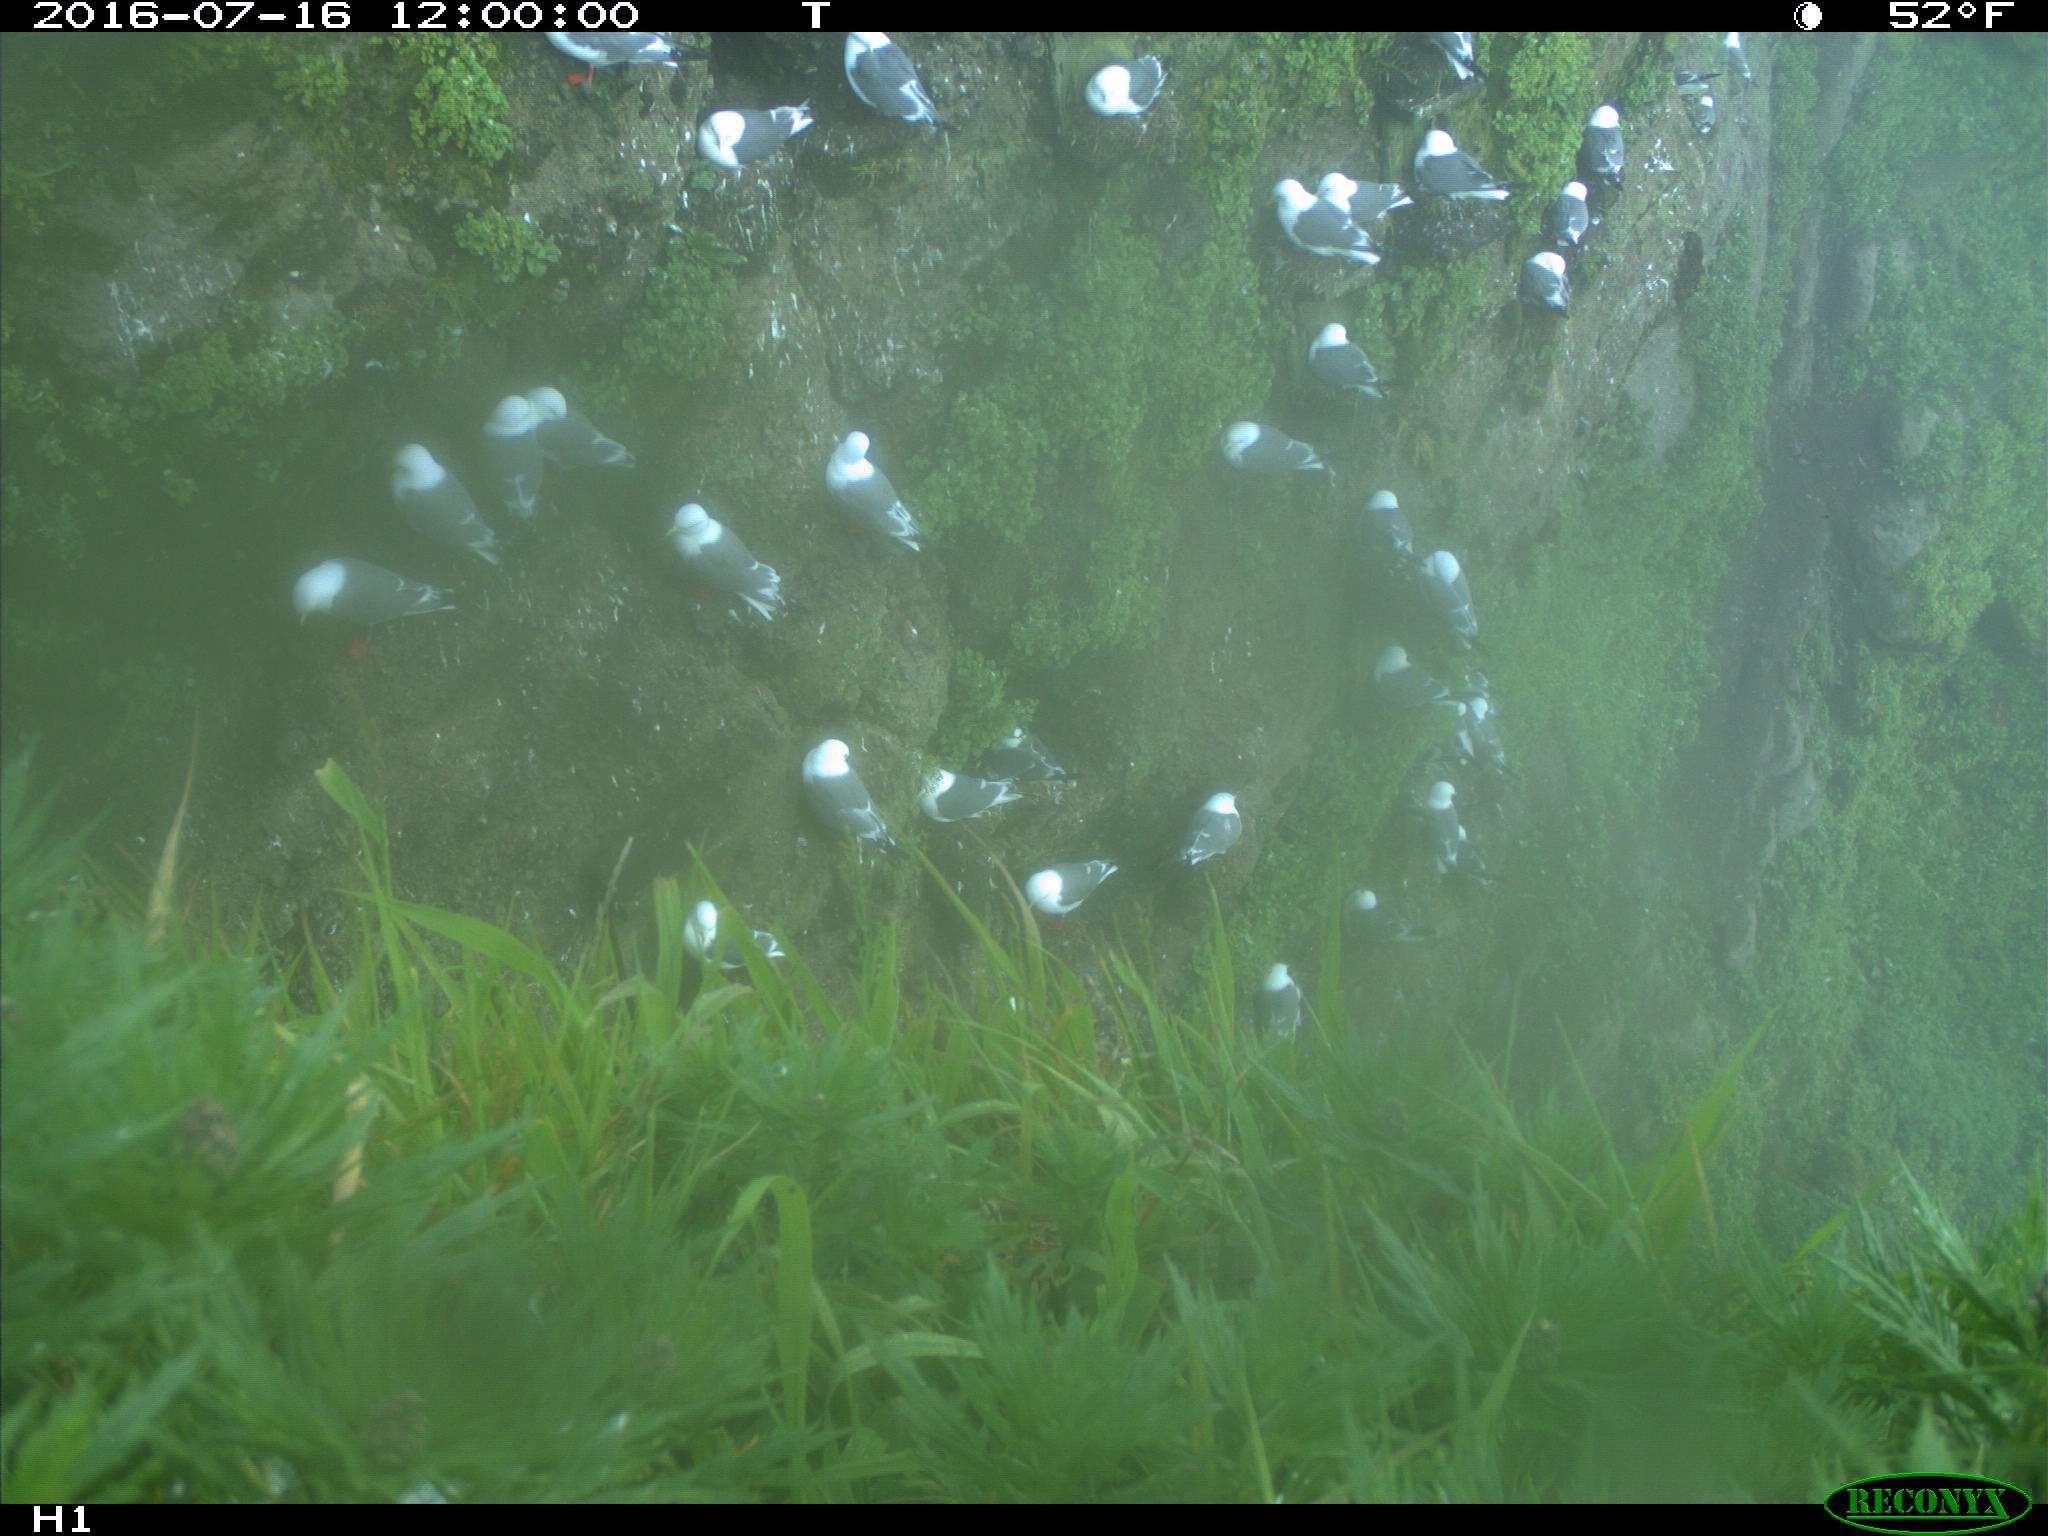Kittiwake: (506, 347, 676, 494), (660, 487, 829, 628), (347, 428, 503, 574), (273, 547, 464, 662), (818, 419, 959, 561), (797, 31, 985, 134), (1256, 163, 1384, 298), (792, 729, 913, 866), (647, 887, 814, 984), (471, 390, 563, 557), (1397, 110, 1527, 224), (689, 82, 826, 190), (514, 23, 711, 97), (1397, 757, 1495, 904), (1163, 763, 1263, 899), (1185, 411, 1342, 497), (998, 834, 1127, 937), (1303, 303, 1403, 423), (1061, 39, 1188, 131), (1238, 944, 1329, 1071), (906, 737, 1030, 829), (1438, 650, 1517, 789), (980, 720, 1101, 800), (1300, 152, 1443, 219), (1563, 74, 1646, 189), (1340, 874, 1451, 960), (1417, 544, 1501, 653), (1350, 628, 1447, 721), (1355, 471, 1435, 579), (1509, 240, 1596, 332), (1674, 53, 1742, 145), (1709, 19, 1777, 108), (1408, 24, 1508, 84), (1538, 166, 1603, 257)
